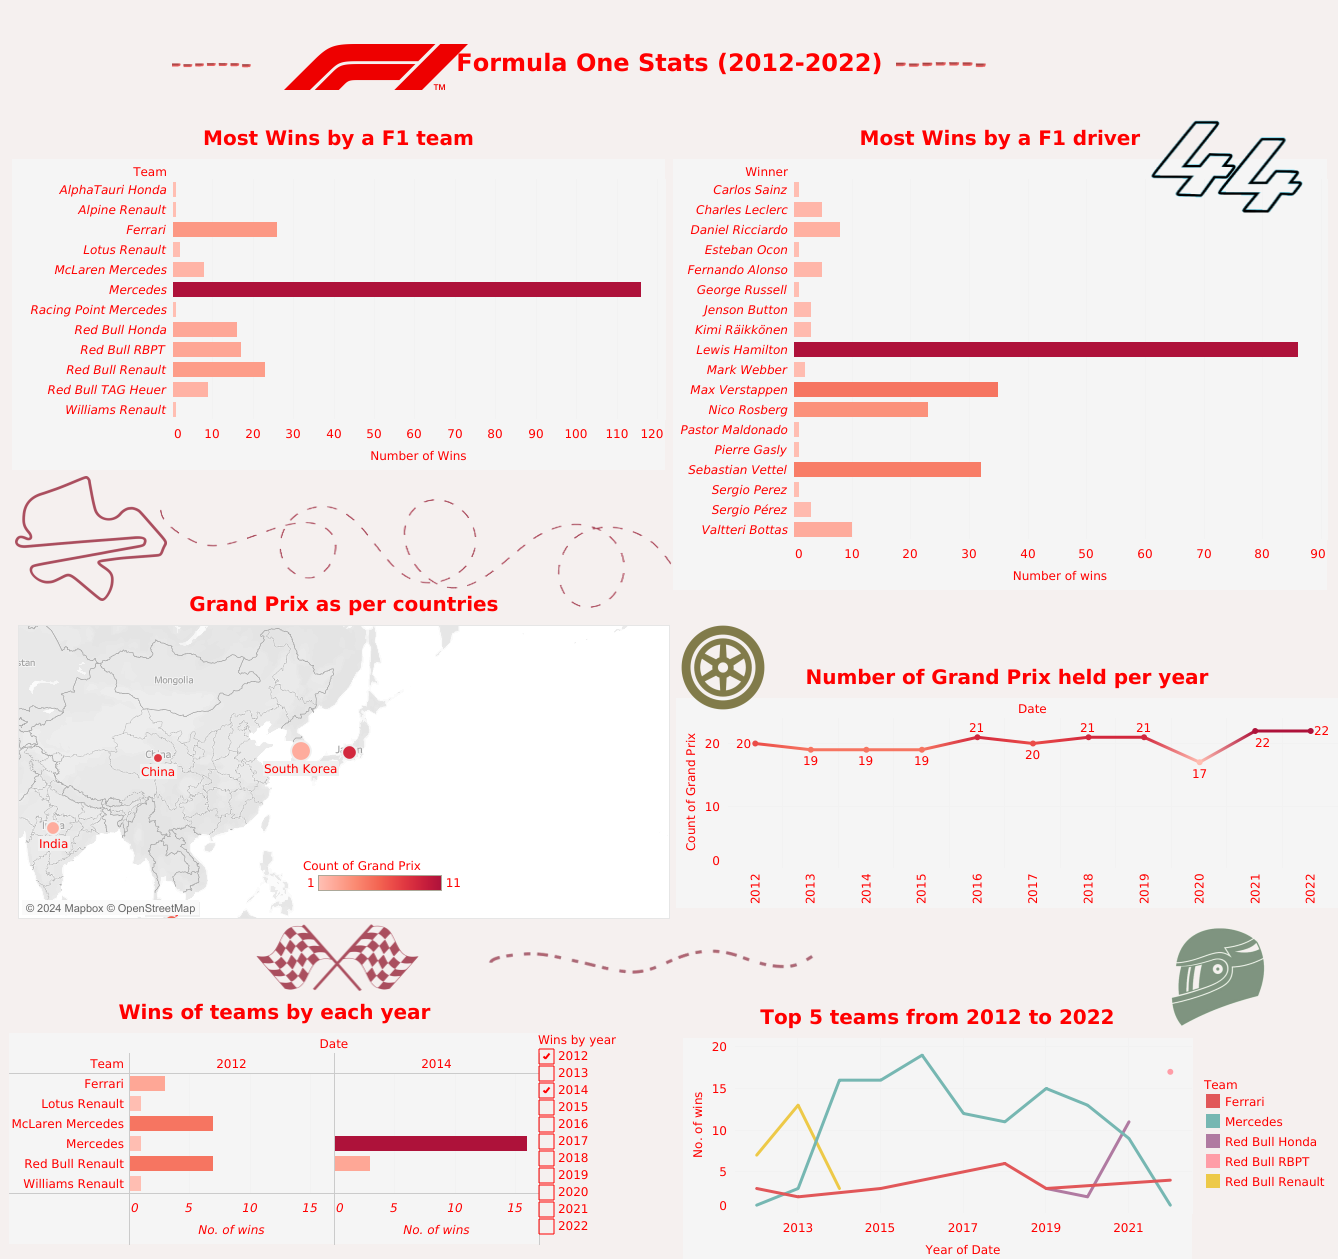

This screenshot's page, from the dashboard's own definition file:
{"tool":"tableau","page":{"name":"Dashboard 1","canvas":[1000,1000],"units":"permille","ordinal":0},"visuals":[{"type":"title","box":[7,6.4,986,85.7]},{"type":"image","param":"Image/Picture21.png","box":[669,15.9,332.8,71.4]},{"type":"image","param":"Image/Picture21.png","box":[128.2,20.6,194,62.7]},{"type":"image","param":"Image/formula-1-logo-7.png","box":[212.5,34.9,137,38.9]},{"type":"image","param":"Image/Picture10.png","box":[852.5,81.8,128.2,107.1]},{"type":"worksheet","title":"most wins by a f1 team","mark":"Automatic","rows":["Team"],"cols":["Winner"],"box":[7,92.1,492.9,901.6]},{"type":"worksheet","title":"most wins by a f1 driver","mark":"Automatic","rows":["Winner"],"cols":["Winner"],"box":[499.9,92.1,493.1,901.6]},{"type":"image","param":"Image/Picture11.png","box":[11.4,377.8,159.8,99.2]},{"type":"image","param":"Image/Picture6.png","box":[119.4,396,383.7,100.8]},{"type":"worksheet","title":"Grand Prix as per country","mark":"Automatic","box":[13.2,465.1,487.3,264.3]},{"type":"image","param":"Image/Picture19.png","box":[508.3,496,76.4,67.5]},{"type":"worksheet","title":"No of grand prix held per year","mark":"Line","rows":["Grand Prix"],"cols":["Date"],"box":[504.8,523,494.3,197.6]},{"type":"legend","title":"Grand Prix as per country","param":"[federated.17s9q2t09vpaq113o8o9j14a4b8k].[cnt:Grand Prix:qk]","box":[226.5,677.8,121.2,47.6]},{"type":"image","param":"Image/Picture22.png","box":[360,688.1,332.8,150]},{"type":"image","param":"Image/Picture2.png","box":[179.1,725.4,145.7,97.6]},{"type":"image","param":"Image/Picture23.png","box":[869.2,732.5,108,85.7]},{"type":"worksheet","title":"top 5 teams","mark":"Automatic","rows":["Winner"],"cols":["Date"],"box":[510.1,792.9,380.2,210.3]}]}

Visuals, with their boxes on the dashboard's canvas, which has no fixed pixel size, in thousandths of its width and height (x1, y1, x2, y2). These are canvas units, not pixel positions in the 1338x1259 screenshot, which may show the page scaled, cropped or inside an application window:
title: [7,6,993,92]
image: [669,16,1002,87]
image: [128,21,322,83]
image: [212,35,350,74]
image: [852,82,981,189]
"most wins by a f1 team" worksheet: [7,92,500,994]
"most wins by a f1 driver" worksheet: [500,92,993,994]
image: [11,378,171,477]
image: [119,396,503,497]
"Grand Prix as per country" worksheet: [13,465,500,729]
image: [508,496,585,564]
"No of grand prix held per year" worksheet (Line marks): [505,523,999,721]
"Grand Prix as per country" legend: [226,678,348,725]
image: [360,688,693,838]
image: [179,725,325,823]
image: [869,732,977,818]
"top 5 teams" worksheet: [510,793,890,1003]
